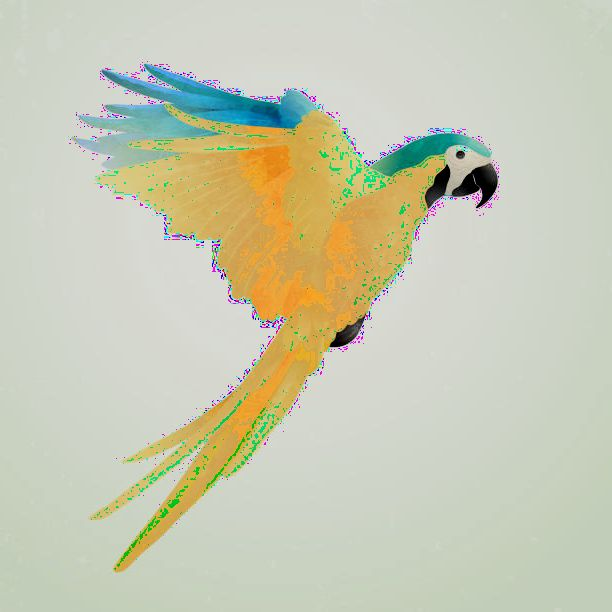Bird: (67, 55, 501, 583)
